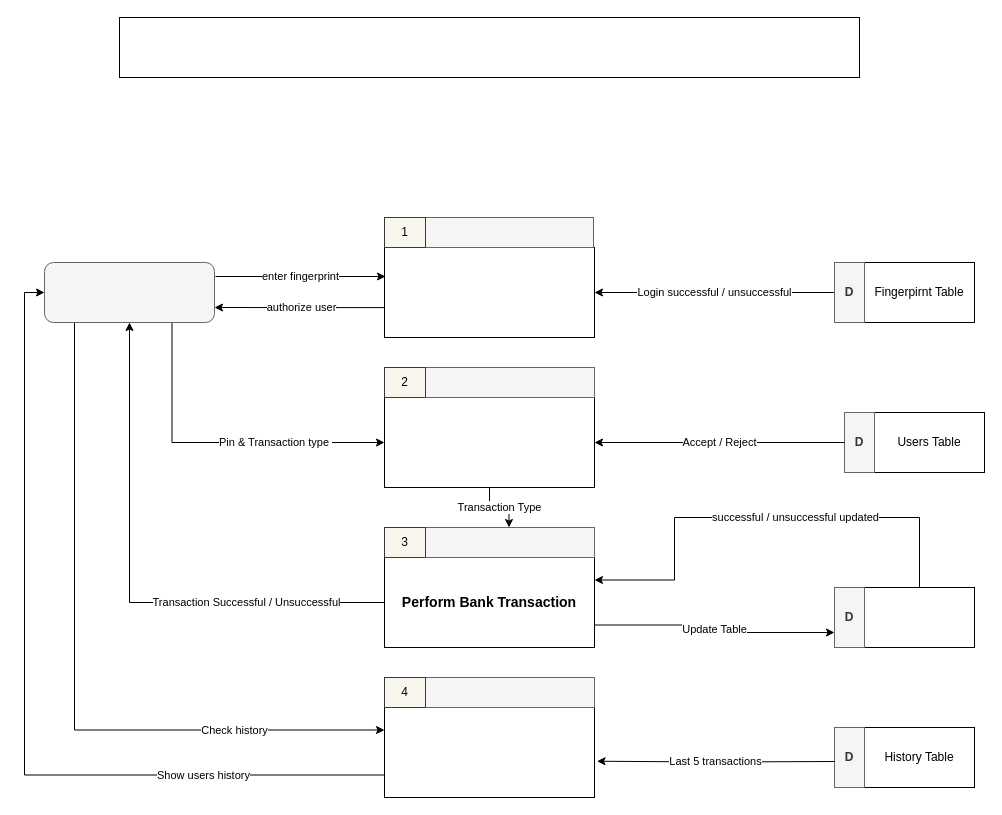
Some shapes in this 1002 by 815 pixel diagram are drawn without their labels. Each missing label, with the box of its shape:
Account Table: (864, 586, 974, 648)
LEVEL 1 Diagram: (118, 16, 860, 78)
User: (44, 262, 214, 322)
User Authentication: (384, 246, 594, 338)
verify Unique Pin: (384, 396, 594, 488)
View History: (384, 706, 594, 798)
